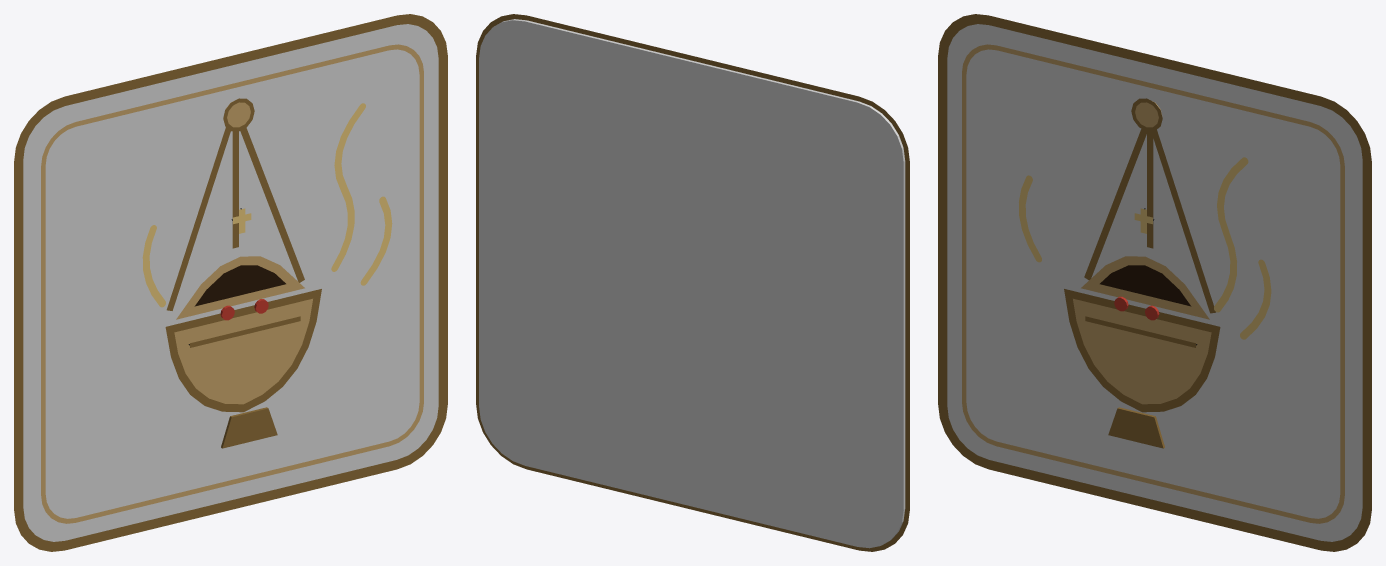
The model's file is obj-kadilo.glb.
3 renders of one model, left to right at view 1: azimuth 30°, elevation 25°; view 2: azimuth 150°, elevation 25°; view 3: azimuth 330°, elevation 25°, orthographic.
Parts seen in each view (by area): view 1: obj-kadilo; view 2: obj-kadilo; view 3: obj-kadilo.
Boxes of the visible parts, left/top/right/bottom form: obj-kadilo: left=14, top=14, right=447, bottom=551; obj-kadilo: left=476, top=14, right=909, bottom=551; obj-kadilo: left=938, top=14, right=1371, bottom=551.
Bounding box in the file's own units: 0.3917 × 0.3917 × 0.0401.
